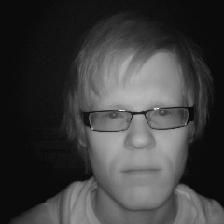normal: (63, 11, 207, 208)
